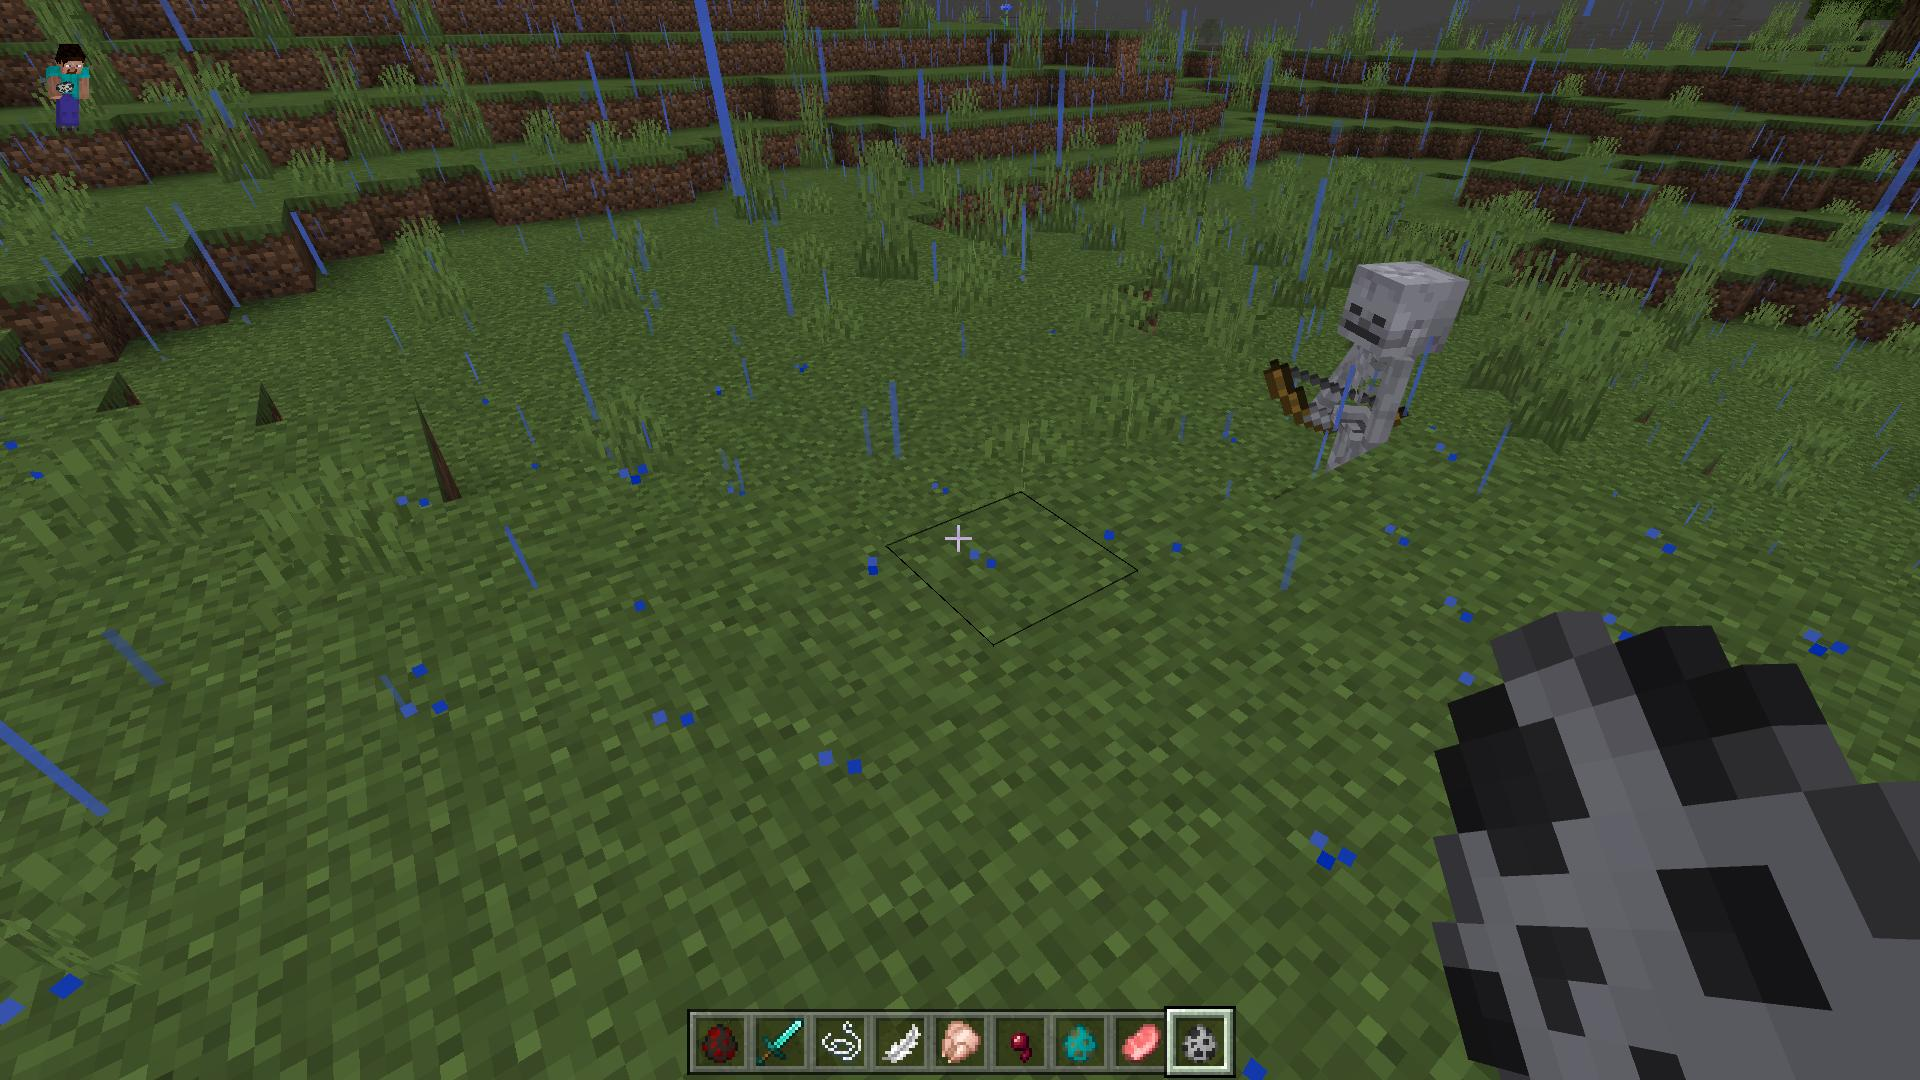skeleton: (1263, 257, 1472, 476)
